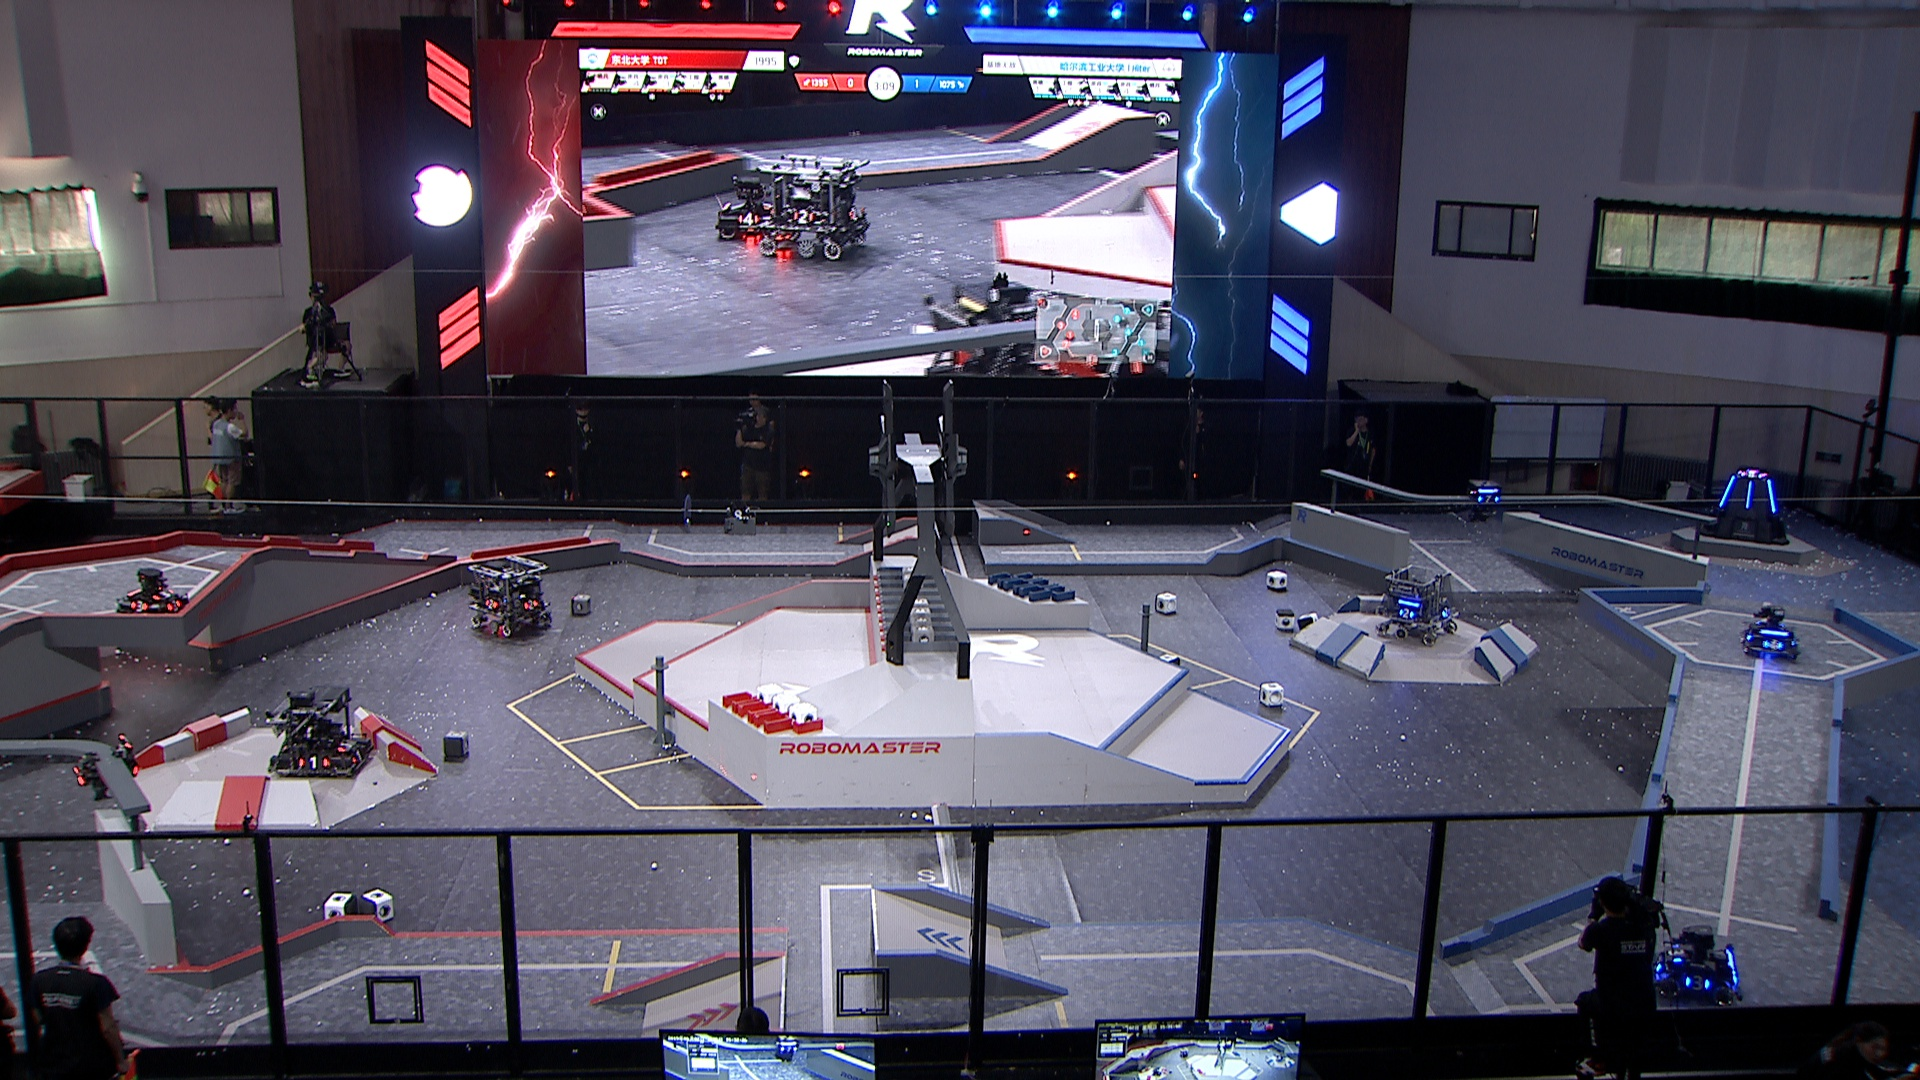armor: (291, 754, 334, 773), (1679, 975, 1714, 996), (1716, 475, 1735, 508), (69, 761, 91, 787), (1665, 939, 1688, 964), (1766, 477, 1779, 516), (335, 733, 357, 756), (348, 742, 368, 766), (1742, 479, 1756, 509), (150, 585, 174, 603), (127, 597, 149, 615), (1477, 493, 1503, 508), (1762, 637, 1785, 651), (520, 597, 541, 613), (481, 595, 500, 612), (166, 595, 182, 615), (1396, 607, 1416, 622), (1441, 603, 1455, 618)
base: (1700, 465, 1789, 546)
car: (266, 680, 373, 781), (1646, 920, 1745, 1007), (462, 551, 556, 640), (1375, 560, 1460, 645), (117, 564, 193, 622), (1741, 603, 1803, 661)
ignore: (922, 276, 1058, 377), (760, 153, 876, 262), (712, 174, 782, 239), (1741, 467, 1766, 480)
watcher: (69, 731, 142, 800), (1461, 480, 1506, 524)
